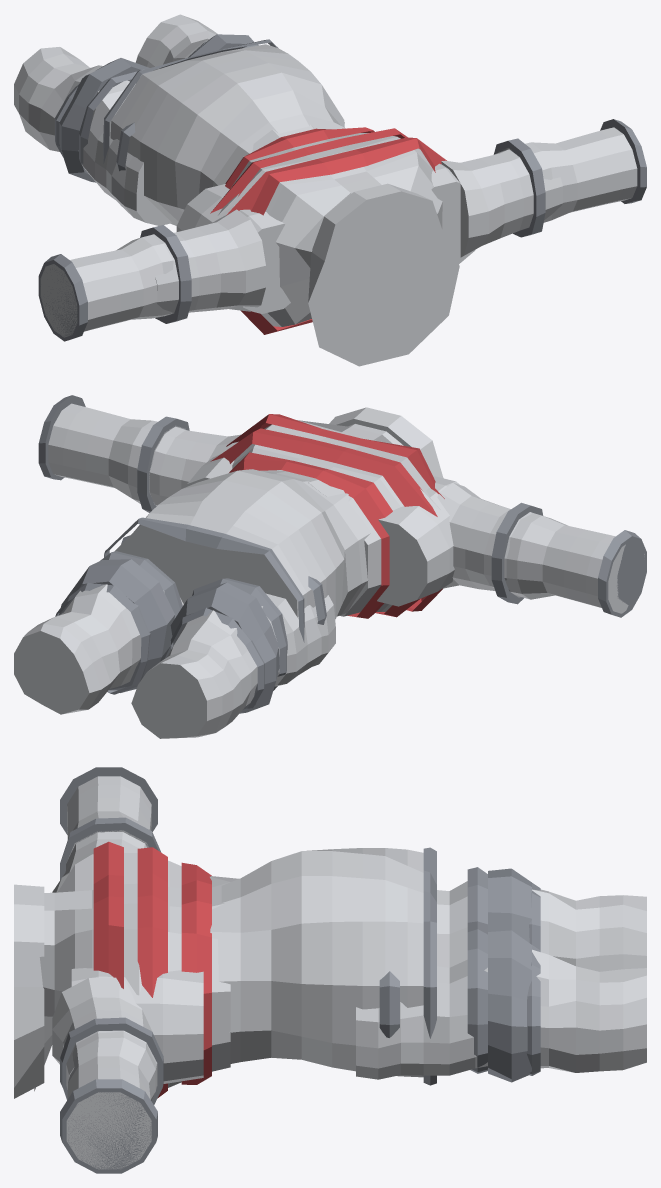
File: armor_chain.glb
The picture shows the model from 3 angles, top to bottom: view 1: azimuth 30°, elevation 25°; view 2: azimuth 150°, elevation 25°; view 3: azimuth 270°, elevation 25°; orthographic projection. The views are drawn at different scales.
Parts seen in each view (by area): view 1: Torso, Abdomen, UpperArmR, LowerArmR, LowerArmL, UpperArmL, UpperLegR, LowerLegR, LowerLegL, UpperLegL; view 2: Abdomen, Torso, LowerLegL, LowerArmR, LowerLegR, UpperArmR, LowerArmL, UpperLegR, UpperLegL, UpperArmL; view 3: Abdomen, Torso, UpperLegL, LowerArmL, LowerLegL, UpperArmL, LowerLegR, UpperLegR, LowerArmR, UpperArmR.
Boxes of the visible parts, x1,y1,x2,y2 form: Torso: (210,124,459,366); Abdomen: (103,39,345,225); UpperArmR: (153,184,290,313); LowerArmR: (38,225,191,341); LowerArmL: (493,119,646,237); UpperArmL: (431,149,562,263); UpperLegR: (59,58,171,225); LowerLegR: (14,47,102,157); LowerLegL: (135,14,217,70); UpperLegL: (188,34,258,57); Abdomen: (104,469,370,690); Torso: (210,407,444,618); LowerLegL: (14,582,150,714); LowerArmR: (491,502,646,617); LowerLegR: (131,607,264,738); UpperArmR: (377,476,534,606); LowerArmL: (38,395,189,512); UpperLegR: (170,576,335,713); UpperLegL: (59,535,183,692); UpperArmL: (149,426,240,505); Abdomen: (210,847,436,1085); Torso: (14,841,230,1098); UpperLegL: (356,929,531,1082); LowerArmL: (60,1017,163,1173); LowerLegL: (526,945,646,1075); UpperArmL: (52,968,203,1089); LowerLegR: (529,882,646,971); UpperLegR: (437,867,531,967); LowerArmR: (60,767,161,880); UpperArmR: (52,832,146,892).
Size of the model in its own units: 2.24 by 0.7217 by 1.87.
